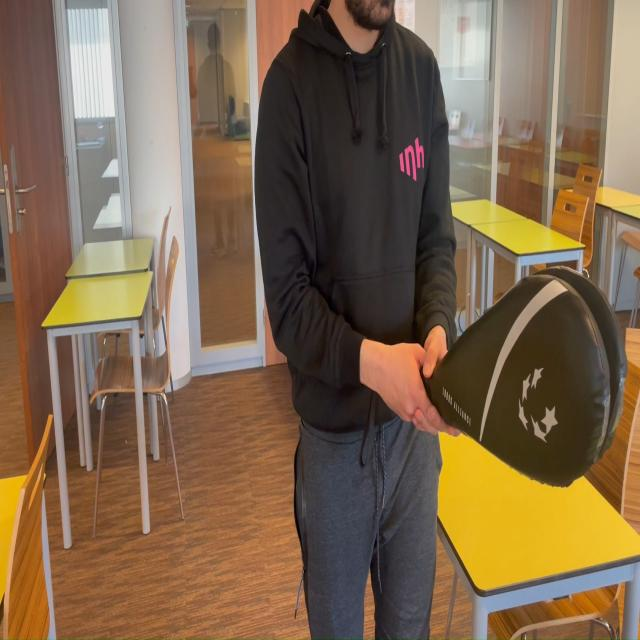paddle: (456, 273, 624, 466)
